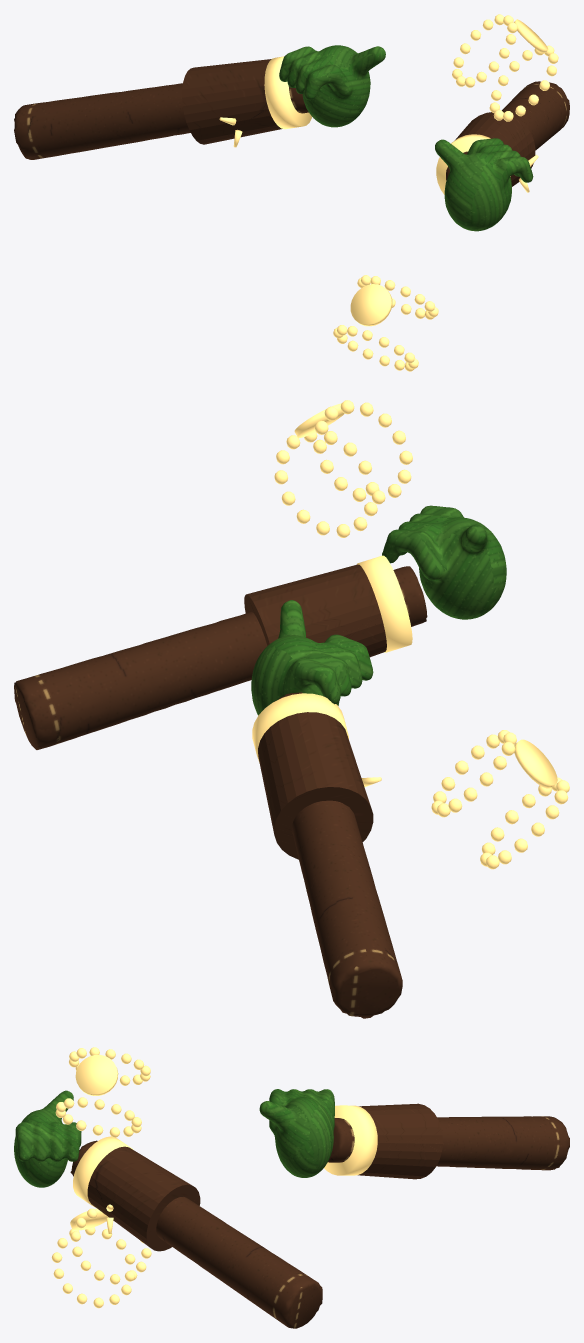
The model's file is fp_hands.glb.
3 renders of one model, top to bottom at view 1: azimuth 30°, elevation 25°; view 2: azimuth 150°, elevation 25°; view 3: azimuth 270°, elevation 25°, orthographic. The views are drawn at different scales.
Visible parts, largest first — view 1: RightForearm, RightBracer_cuff, LeftHand, RightHand, RightBracer_brass, LeftBracer_brass, LeftForearm, LeftBracer_cuff; view 2: LeftForearm, RightForearm, RightBracer_cuff, LeftHand, LeftBracer_brass, RightHand, RightBracer_brass, LeftBracer_cuff; view 3: LeftForearm, RightForearm, LeftBracer_cuff, RightHand, LeftBracer_brass, RightBracer_cuff, RightBracer_brass, LeftHand.
Boxes of the visible parts, x1=… form: RightForearm: x1=14, y1=83, x2=308, y2=159; RightBracer_cuff: x1=182, y1=59, x2=282, y2=144; LeftHand: x1=435, y1=138, x2=533, y2=231; RightHand: x1=279, y1=45, x2=385, y2=127; RightBracer_brass: x1=219, y1=56, x2=438, y2=371; LeftBracer_brass: x1=436, y1=14, x2=558, y2=194; LeftForearm: x1=446, y1=81, x2=569, y2=180; LeftBracer_cuff: x1=455, y1=112, x2=535, y2=186; LeftForearm: x1=14, y1=566, x2=427, y2=749; RightForearm: x1=274, y1=692, x2=402, y2=1018; RightBracer_cuff: x1=258, y1=712, x2=373, y2=859; LeftHand: x1=382, y1=505, x2=506, y2=619; LeftBracer_brass: x1=274, y1=400, x2=412, y2=652; RightHand: x1=251, y1=600, x2=373, y2=715; RightBracer_brass: x1=252, y1=693, x2=569, y2=869; LeftBracer_cuff: x1=244, y1=564, x2=386, y2=657; LeftForearm: x1=70, y1=1140, x2=322, y2=1328; RightForearm: x1=328, y1=1116, x2=569, y2=1170; LeftBracer_cuff: x1=87, y1=1146, x2=200, y2=1251; RightHand: x1=259, y1=1089, x2=334, y2=1177; LeftBracer_brass: x1=55, y1=1047, x2=150, y2=1233; RightBracer_cuff: x1=358, y1=1103, x2=442, y2=1179; RightBracer_brass: x1=51, y1=1105, x2=377, y2=1308; LeftHand: x1=14, y1=1090, x2=81, y2=1187.
Bounding box in the file's own units: 0.7632 × 0.5511 × 0.8884.
Materials: 3 (2 with a texture image).
